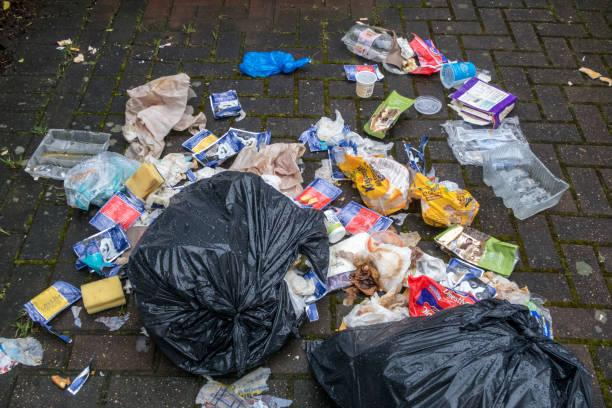trash: (125, 146, 331, 384), (323, 237, 606, 407), (62, 139, 209, 231), (95, 65, 204, 159), (471, 134, 571, 217), (343, 131, 433, 217), (228, 117, 318, 203), (31, 112, 118, 191), (337, 17, 454, 75), (428, 103, 531, 168), (189, 107, 287, 173), (40, 220, 152, 277), (317, 114, 403, 186), (181, 364, 303, 408), (328, 200, 379, 296), (433, 224, 529, 271), (361, 79, 421, 149), (439, 69, 514, 124), (293, 102, 357, 160), (31, 263, 76, 344), (419, 176, 477, 230), (69, 276, 135, 319), (42, 357, 106, 400), (340, 193, 399, 237), (0, 327, 49, 374), (436, 49, 486, 94), (244, 46, 306, 82), (207, 82, 244, 121), (340, 62, 383, 94), (320, 202, 346, 243), (412, 92, 440, 123)
